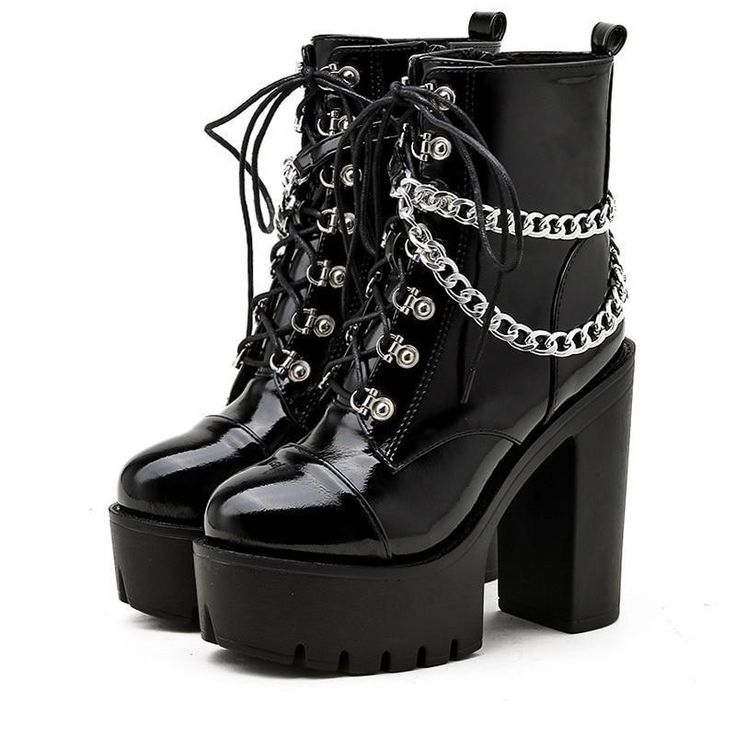cuero: (115, 12, 628, 557)
